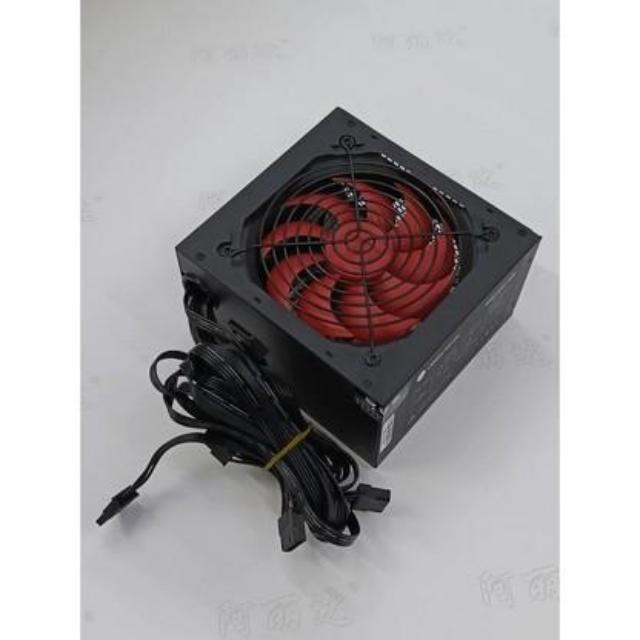PSU: (164, 95, 538, 490)
